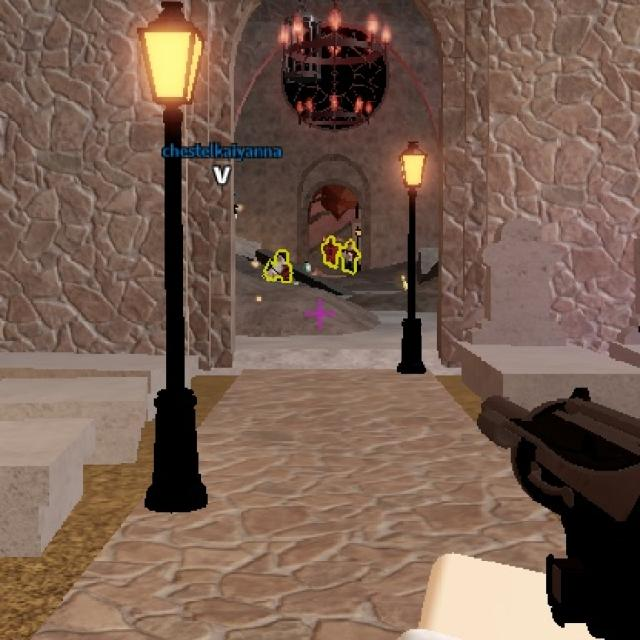player: (264, 247, 294, 288), (320, 234, 339, 272), (343, 238, 361, 277)
